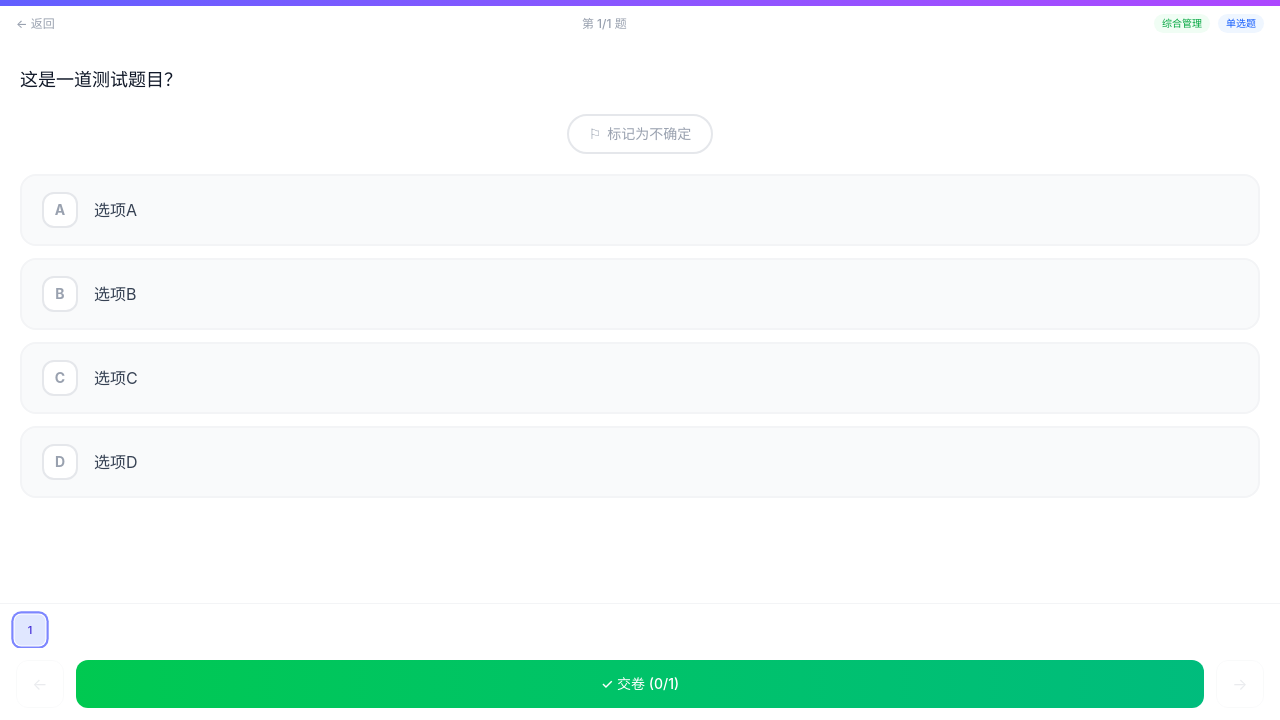
QuizPage — 返回首页按钮 › 点击返回首页弹出确认弹窗
Expected: the text "这是一道测试题目？" is shown, [20,69,182,90]
Click the button "← 返回".
click(35, 24)  # box [16,16,55,32]
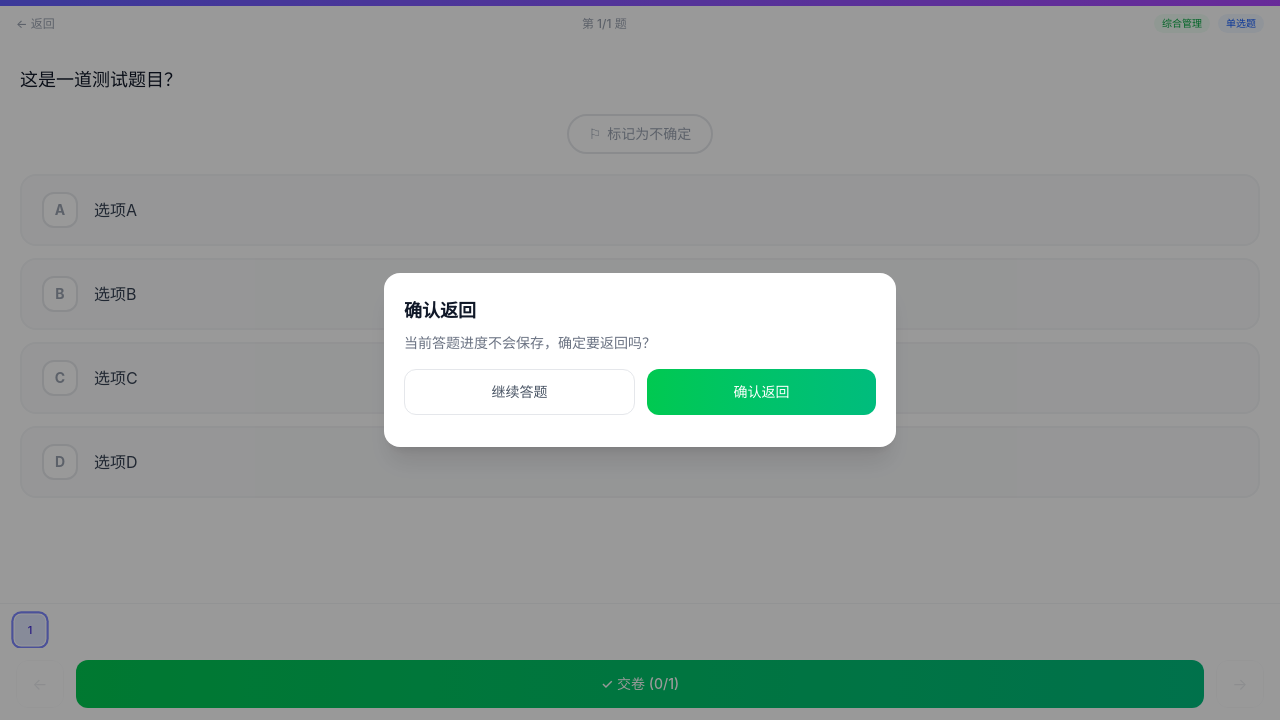
Expected: the heading "确认返回" is shown, [404,300,476,321]
Expected: the text "当前答题进度不会保存，确定要返回吗？" is shown, [404,334,656,351]
